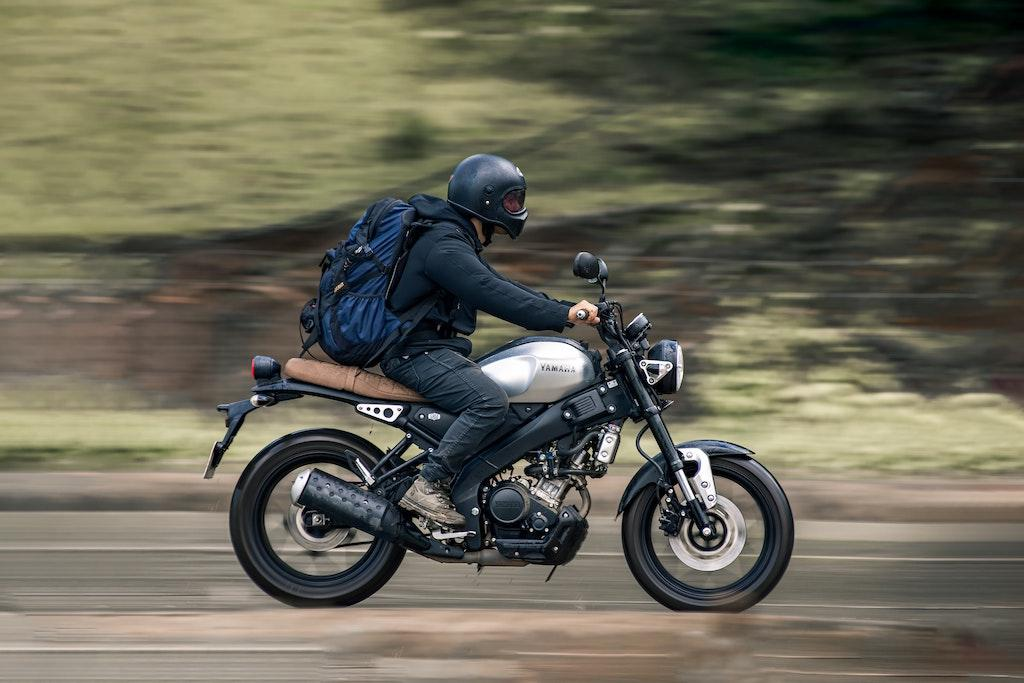helmet: (446, 152, 529, 248)
